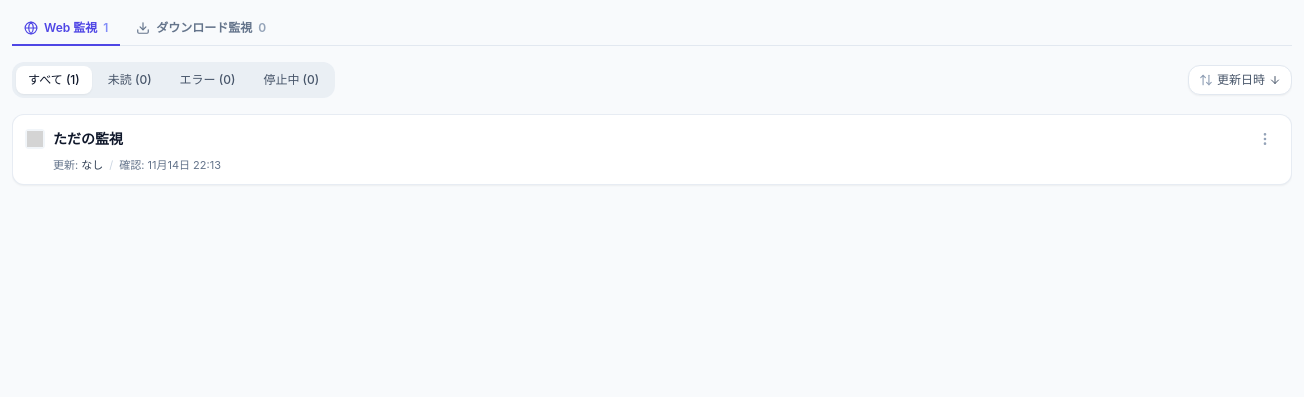
Test: WatchList: Web 監視 / ダウンロード監視 › should explain how to get here when the download list is empty
The image size is (1304, 397).
Click the button "ダウンロード監視 0" at (201, 29), box [124,12,278,46]
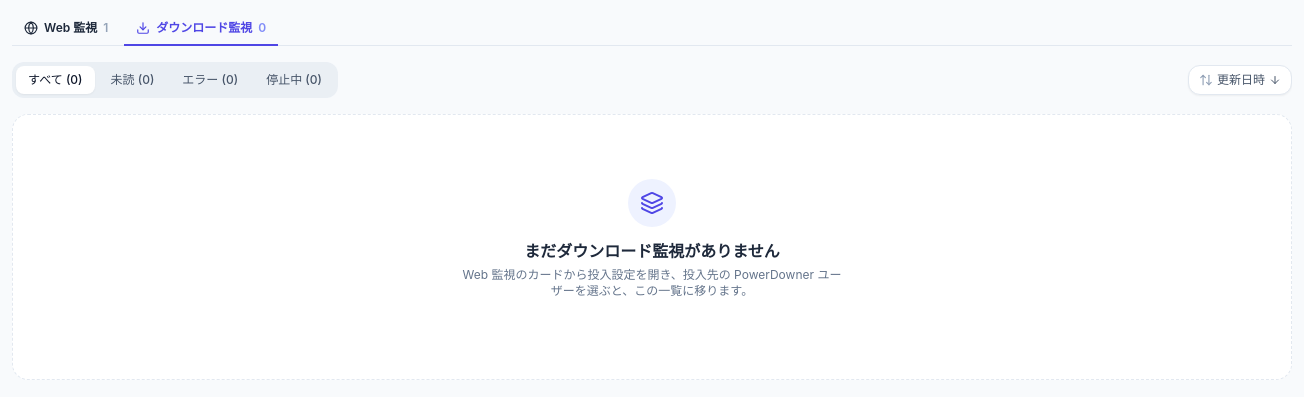
Expected: the heading "まだダウンロード監視がありません" is shown, [524,241,780,261]
